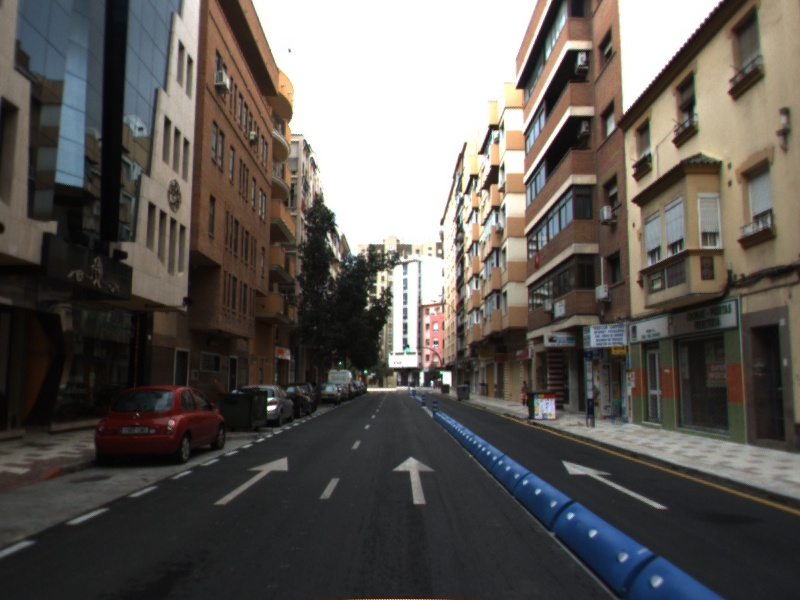STRAIGHT: (561, 459, 669, 511), (212, 455, 290, 506), (391, 455, 437, 506)
